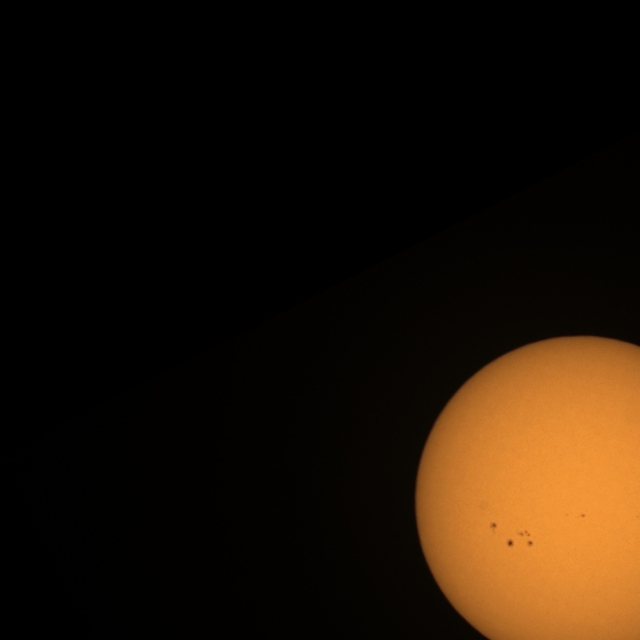sunspot: (514, 529, 534, 547), (490, 521, 498, 532), (506, 539, 514, 547), (579, 513, 586, 519), (565, 512, 570, 517)
